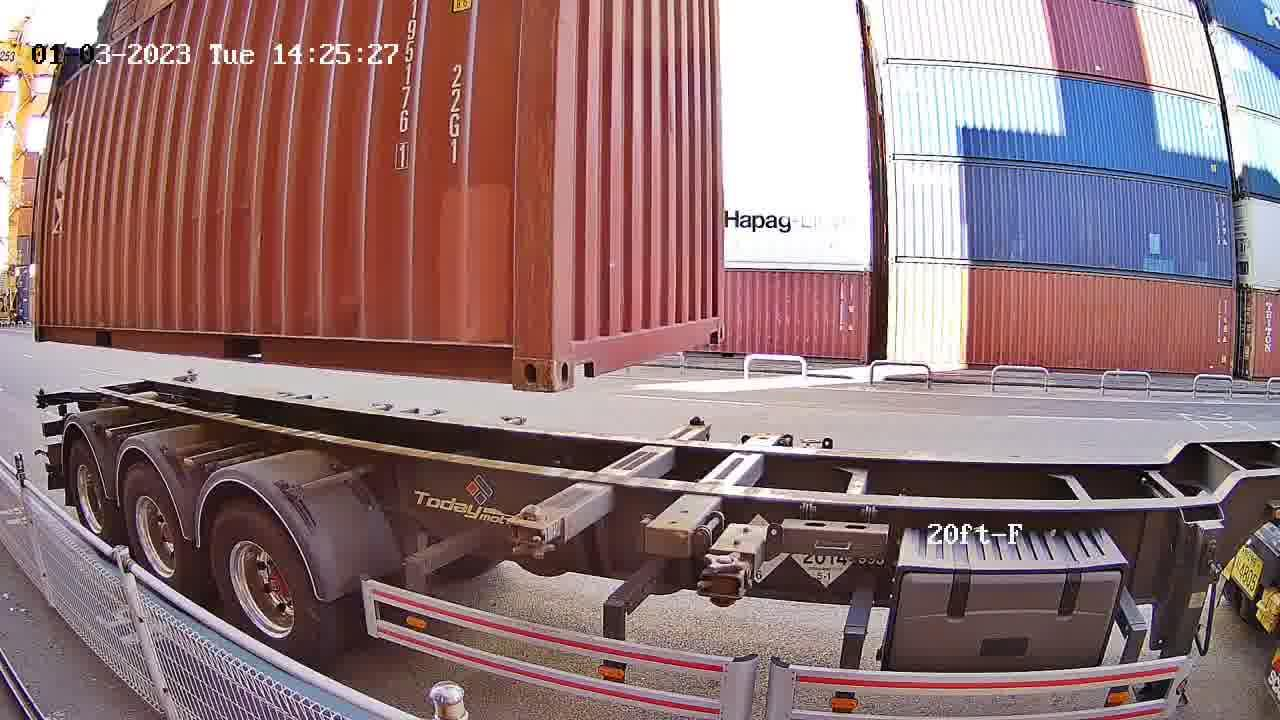Chassis: (511, 420, 710, 543)
Cone: (514, 502, 560, 558)
Hole_L: (552, 329, 597, 390)
Hole_R: (485, 324, 552, 392), (700, 302, 727, 343)
Tire: (210, 508, 319, 663), (123, 469, 192, 596), (70, 443, 115, 547)
